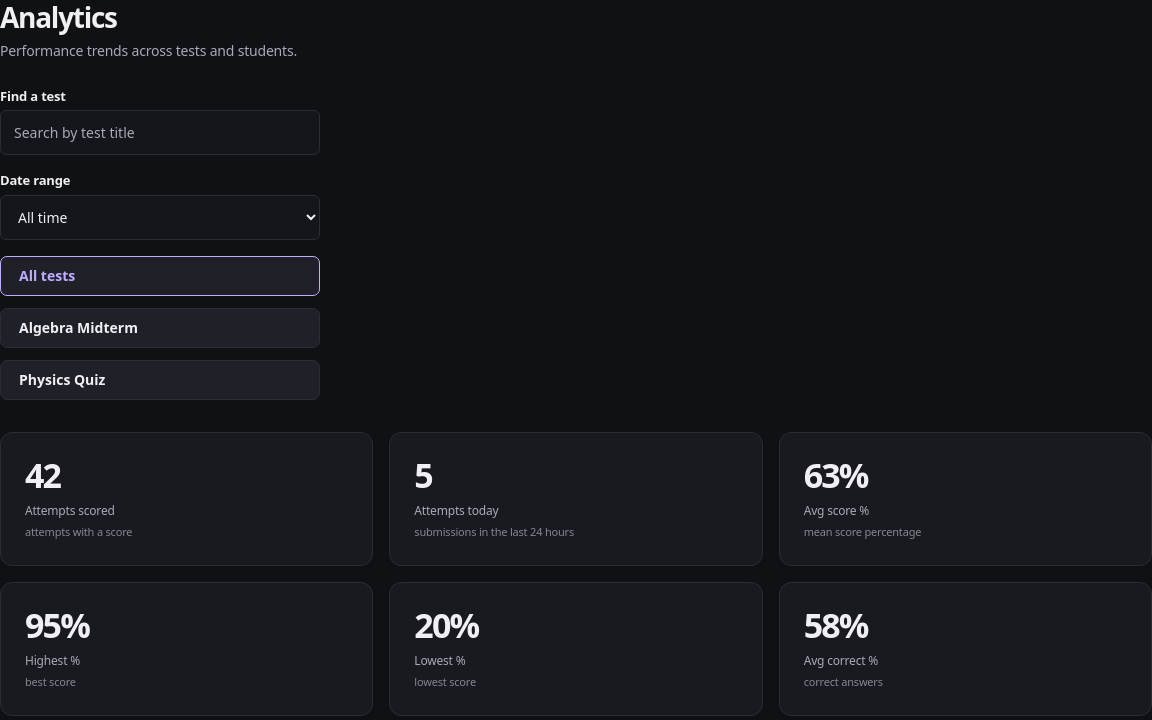
Test case: Analytics › keeps the picker mounted while analytics load, showing a compact loading state
Expected: the text "42" is shown, top-left (25, 452), bottom-right (60, 498)
Click the button "Physics Quiz". click: (62, 379)
box: top-left (0, 360), bottom-right (320, 400)
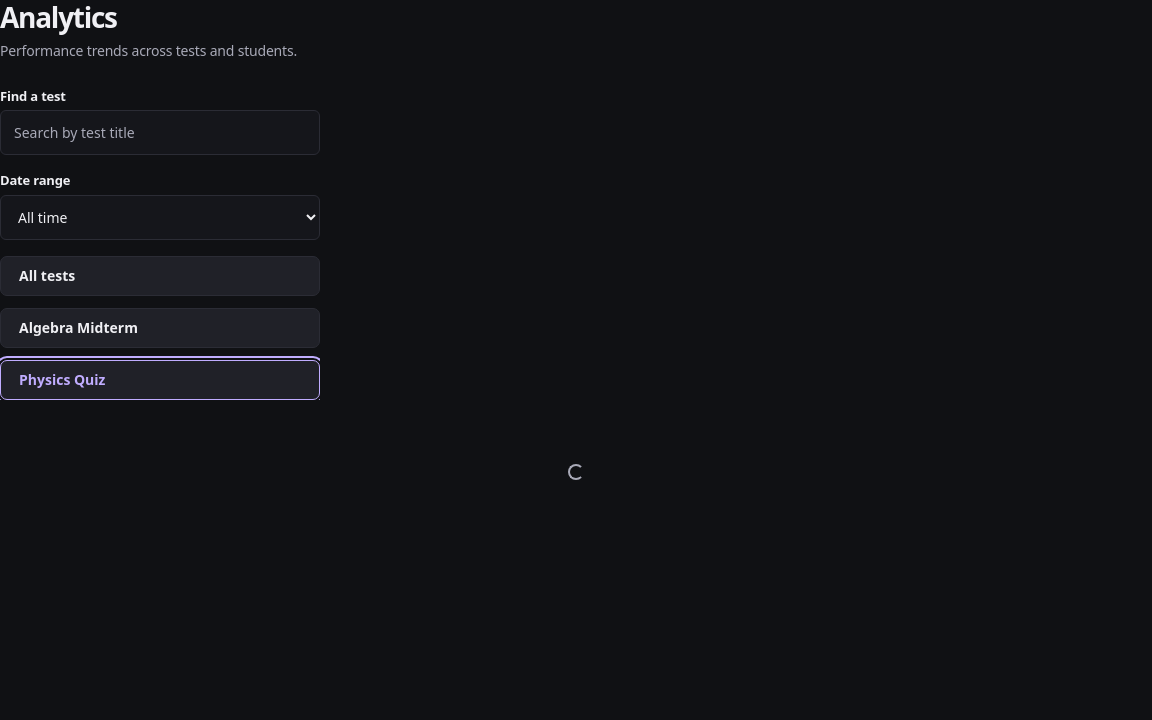
Expected: the field labelled "Find a test" is shown, top-left (0, 110), bottom-right (320, 155)
Now the text "Attempts scored" is gone
